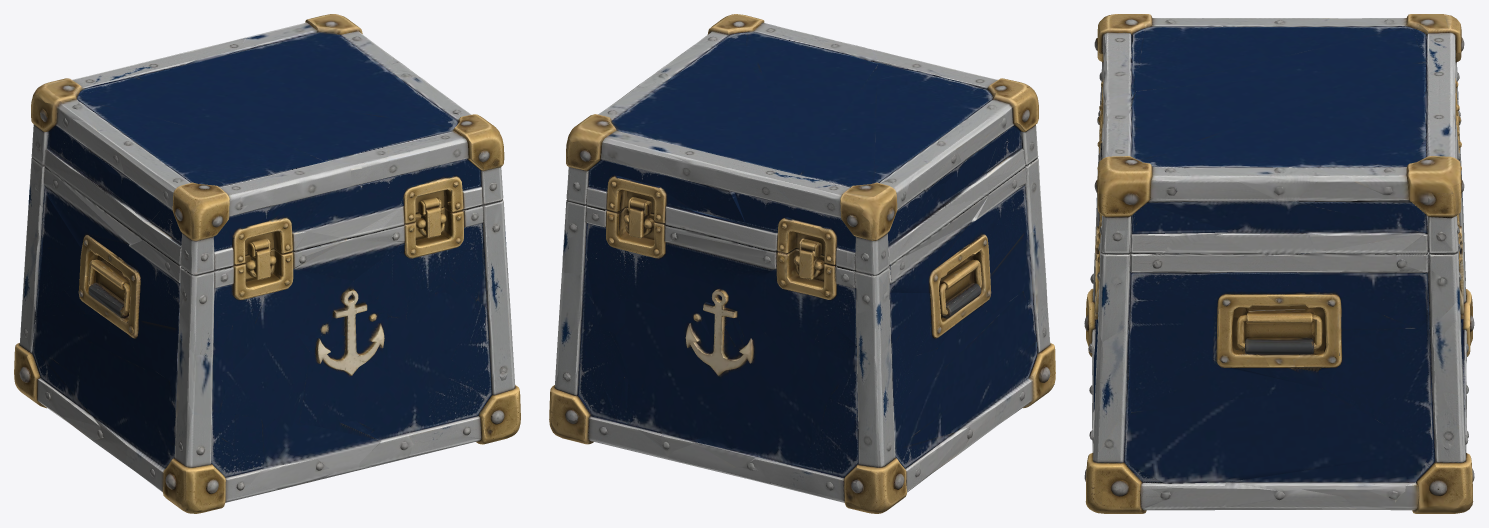
File: storm-case.glb
3 views of the same model, side by side, from view 1: azimuth 30°, elevation 25°; view 2: azimuth 150°, elevation 25°; view 3: azimuth 270°, elevation 25° (orthographic). The views are drawn at different scales.
Visible parts, largest first — view 1: Mesh_0; view 2: Mesh_0; view 3: Mesh_0.
Part boxes in pixels (x1=…): Mesh_0: x1=14, y1=14, x2=520, y2=513; Mesh_0: x1=549, y1=14, x2=1055, y2=513; Mesh_0: x1=1084, y1=14, x2=1474, y2=513.
Bounding box in the file's own units: 1.91 × 1.66 × 1.72.
Materials: 1 (1 with a texture image).
